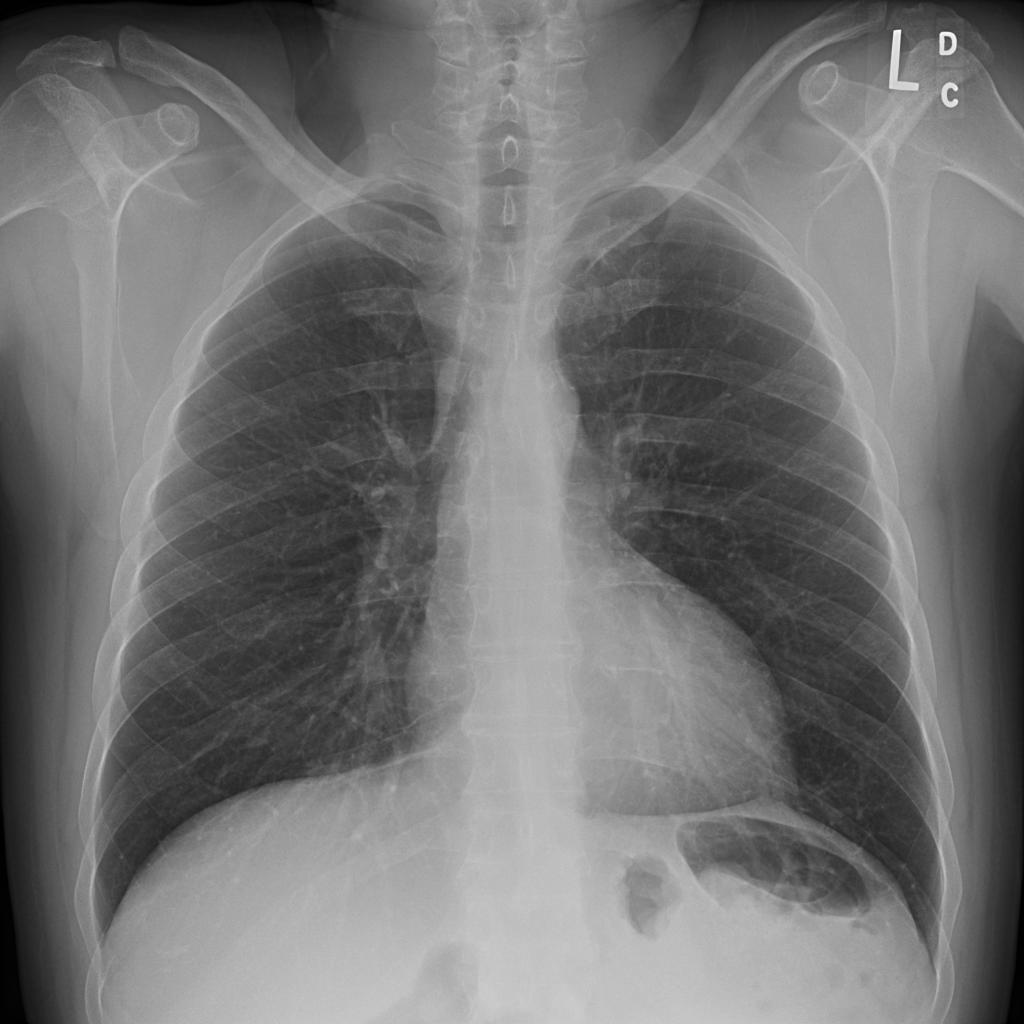Nodule: (297, 109, 333, 143)
